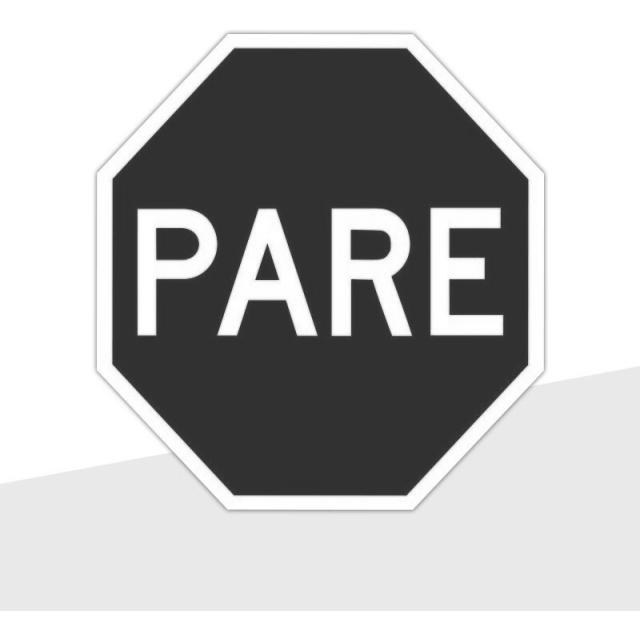Stop-sign: (70, 9, 564, 525)
